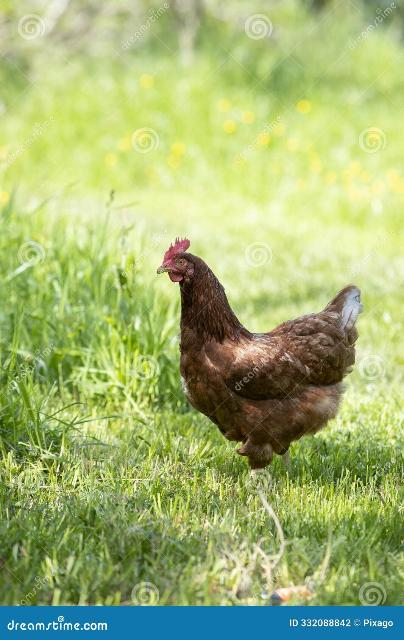Chicken: (158, 236, 362, 469)
